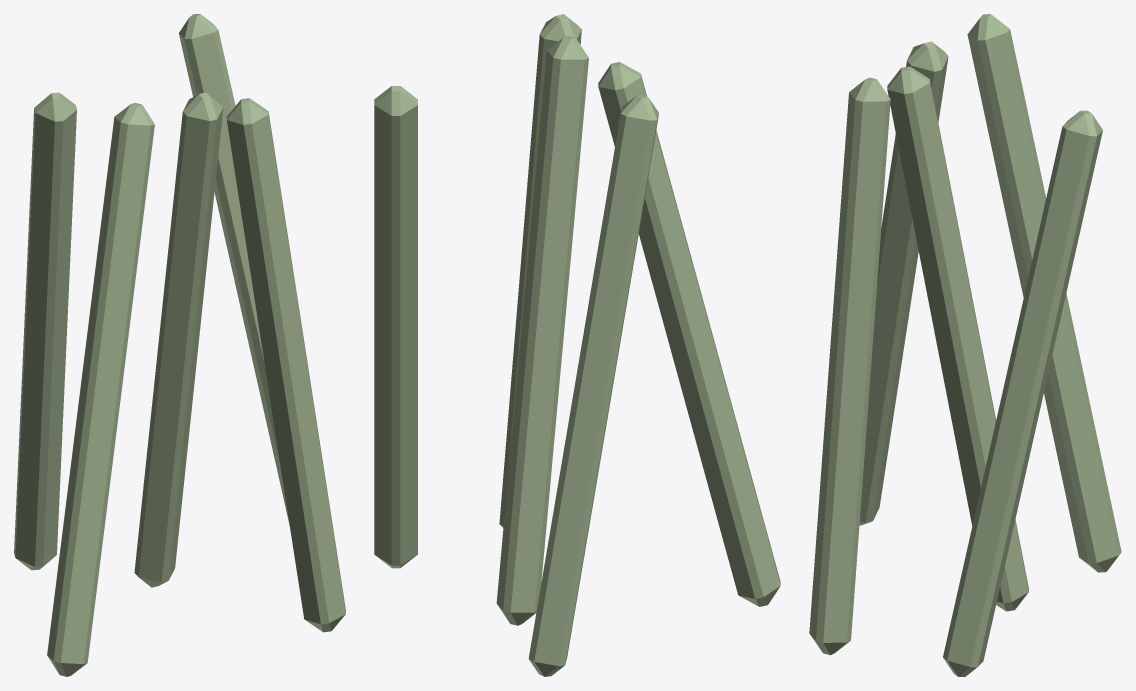
File: SM_Grass_Tuft.fbx
3 views of the same model, side by side, from view 1: azimuth 30°, elevation 25°; view 2: azimuth 150°, elevation 25°; view 3: azimuth 270°, elevation 25° (orthographic). The views are drawn at different scales.
Parts seen in each view (by area): view 1: Grass_Tuft; view 2: Grass_Tuft; view 3: Grass_Tuft.
Boxes of the visible parts, x1,y1,x2,y2 form: Grass_Tuft: (14,14,345,676); Grass_Tuft: (374,14,780,676); Grass_Tuft: (809,14,1121,676).
Bounding box in the file's own units: 18.27 × 27.78 × 14.45.
